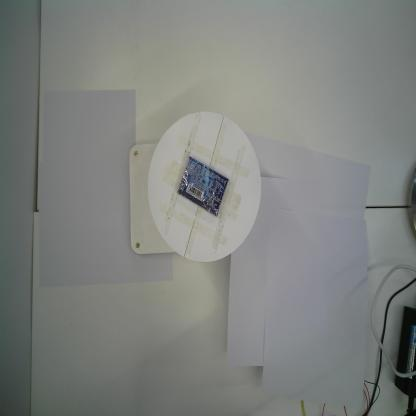Gum: (178, 156, 228, 217)
